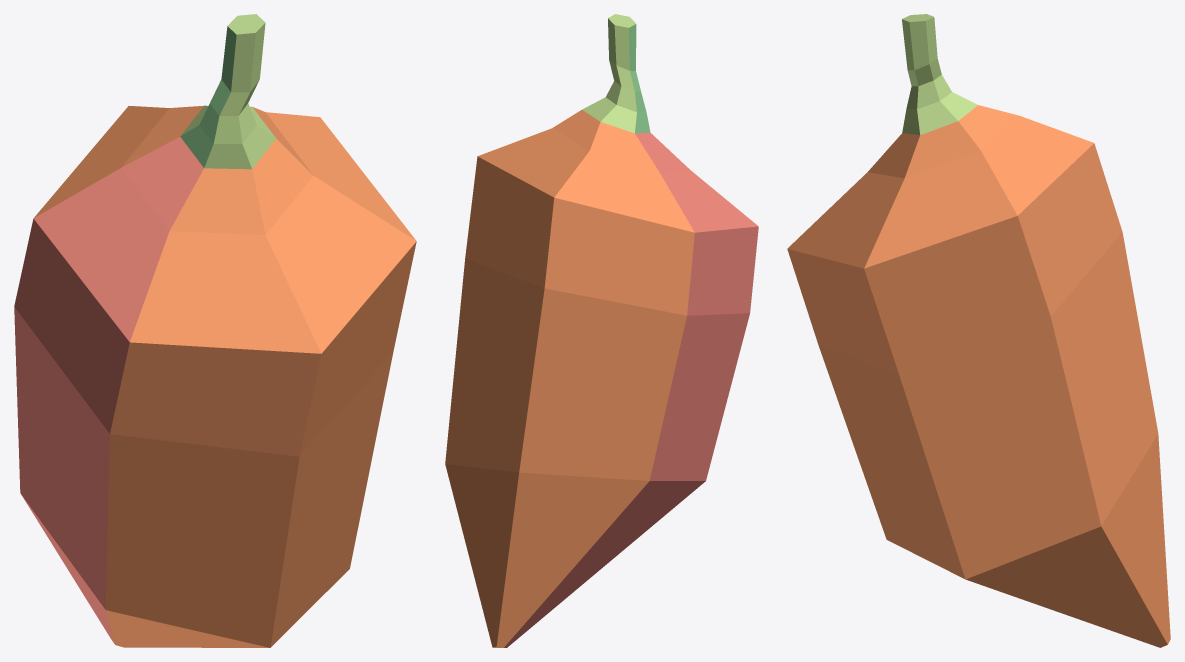
Rendered from chillipepper.glb.
3 views of the same model, side by side, from view 1: azimuth 30°, elevation 25°; view 2: azimuth 150°, elevation 25°; view 3: azimuth 270°, elevation 25° (orthographic). The views are drawn at different scales.
Visible parts, largest first — view 1: pepper.001; view 2: pepper.001; view 3: pepper.001.
Boxes of the visible parts, x1,y1,x2,y2 form: pepper.001: (14, 14, 416, 647); pepper.001: (445, 14, 758, 647); pepper.001: (787, 14, 1170, 647).
Size of the model in its own units: 17.86 by 42.07 by 23.47.
